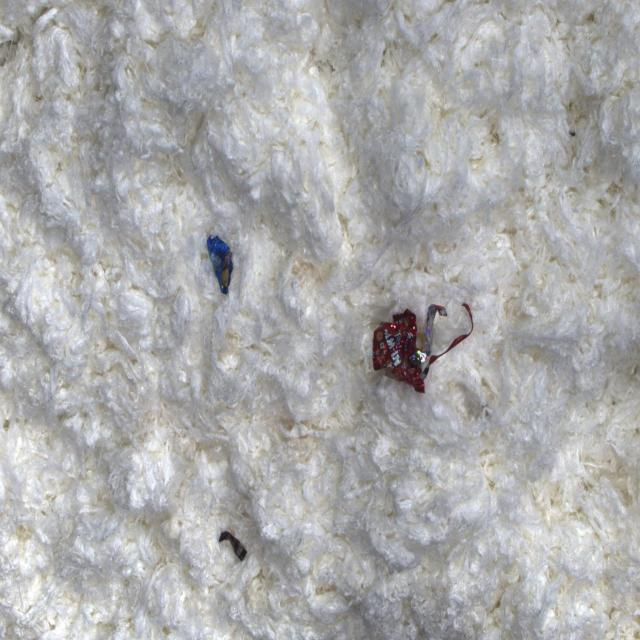dust: (356, 288, 479, 397), (205, 229, 238, 307), (219, 511, 252, 583)
